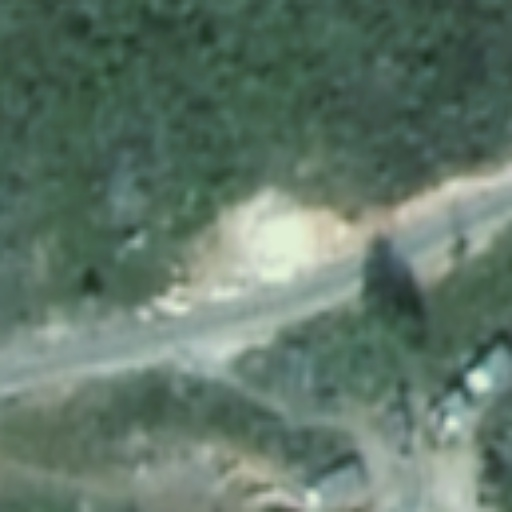landslide: (199, 188, 347, 279)
